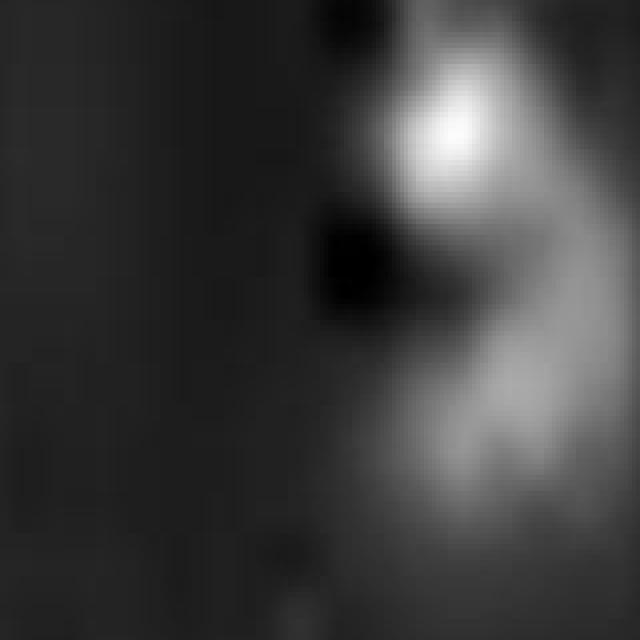person: (345, 1, 640, 545)
